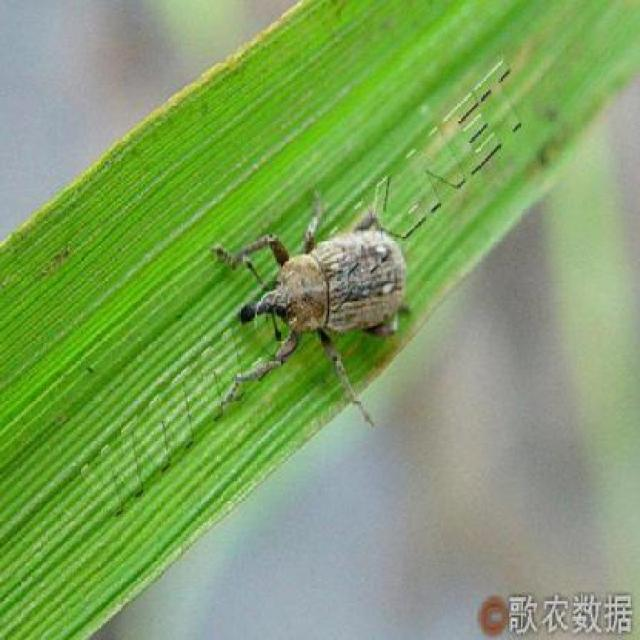rice-bug: (225, 202, 410, 403)
